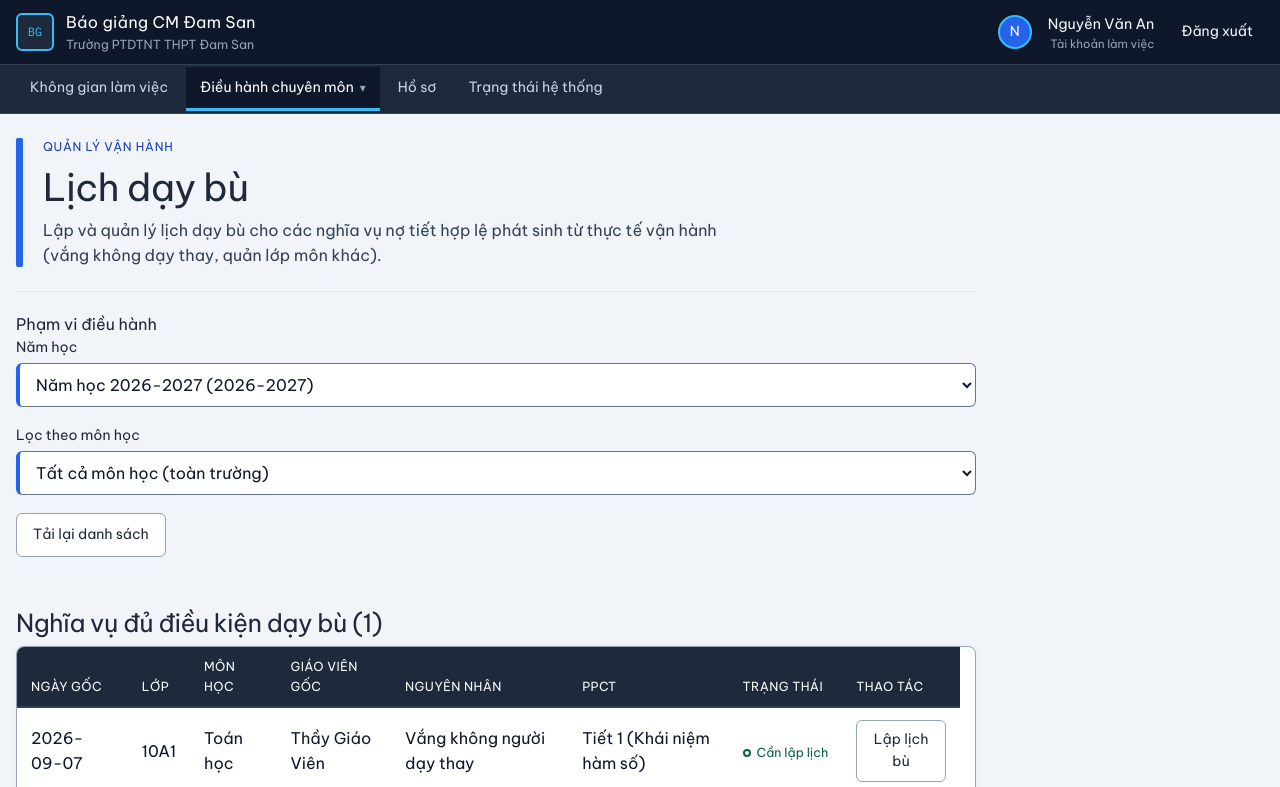
Test case: MakeupSchedulingPage › AR-04: Candidate/schedule decoupling and fail-closed reload › D1: initial PASS -> select candidate -> reload with candidates BLOCKED and schedules 503 => BLOCKED visible, old create form absent, submit impossible
// Select candidate
Click the button "Lập lịch bù" at (901,751), box [856,720,946,782]
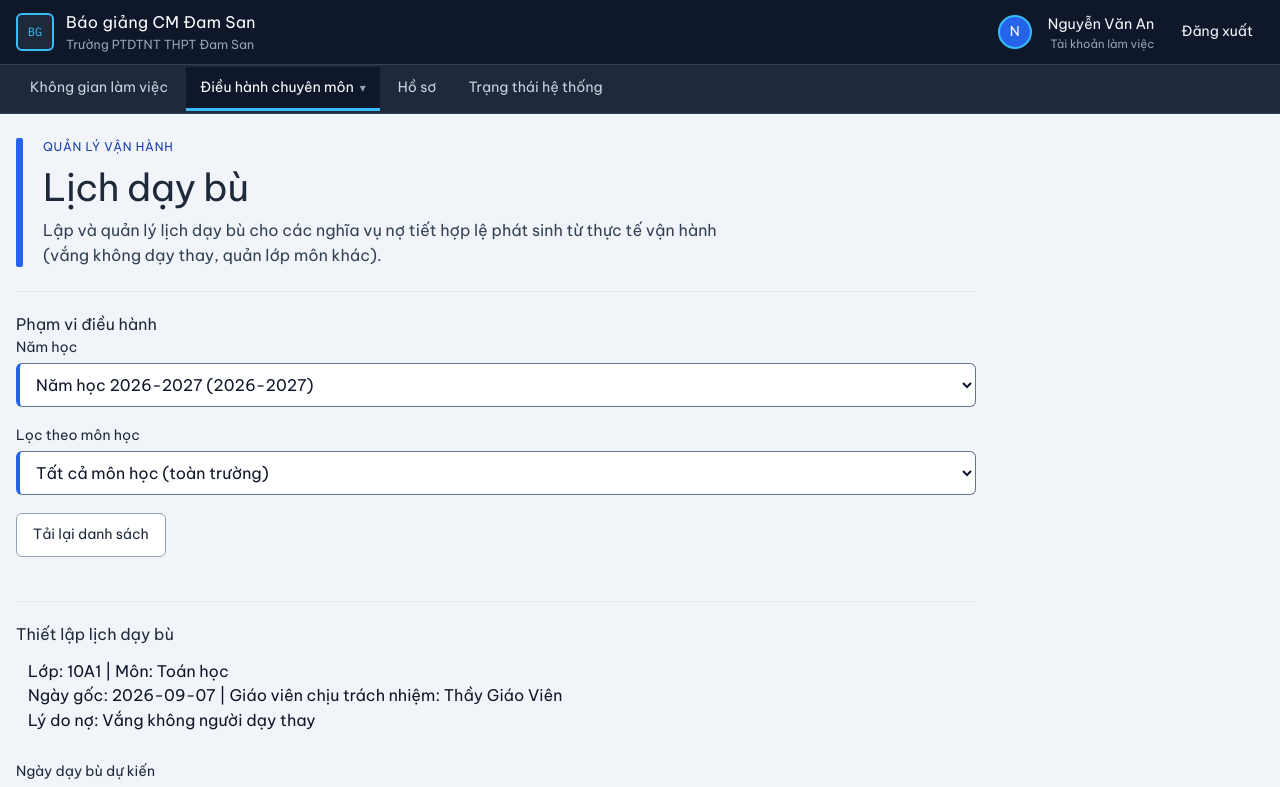
Expected: the text "Thiết lập lịch dạy bù" is shown, [16,624,174,644]
Click the button "Tải lại danh sách" at (91,535), box [16,513,166,557]
(page scrolled)
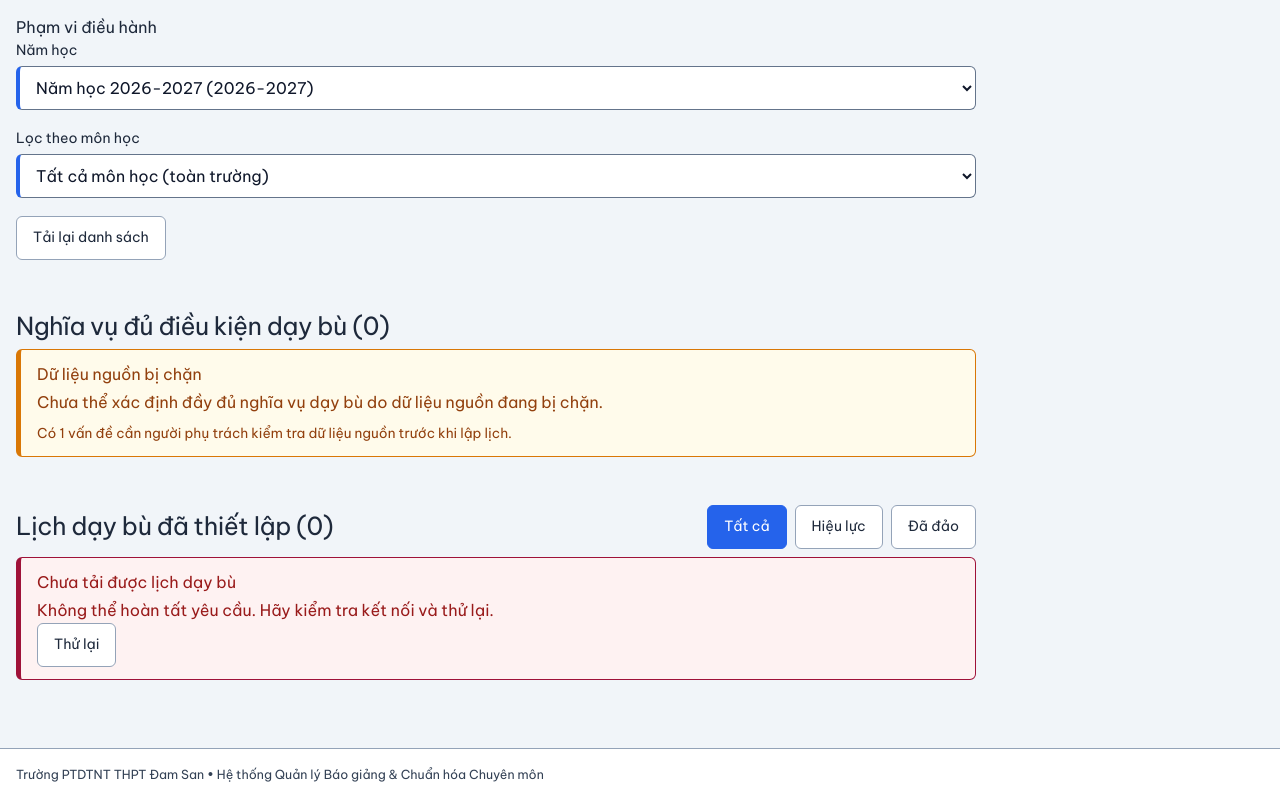
Expected: the text "Chưa thể xác định đầy đủ nghĩa vụ dạy bù do dữ liệu nguồn đang bị chặn" is shown, [37,392,603,412]
Expected: the text "Chưa tải được lịch dạy bù" is shown, [37,572,236,592]
Expected: the text "Thiết lập lịch dạy bù" is gone
